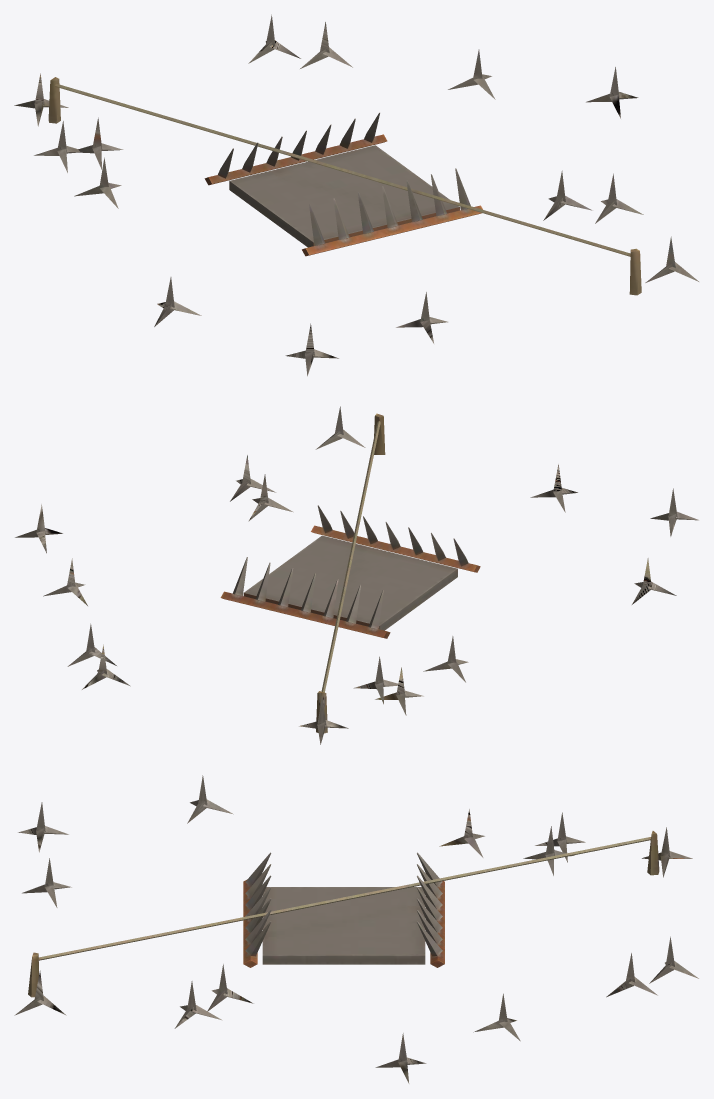
File: trap-town.low.glb
3 views of the same model, one above another, from view 1: azimuth 30°, elevation 25°; view 2: azimuth 150°, elevation 25°; view 3: azimuth 270°, elevation 25° (orthographic). The views are drawn at different scales.
Visible parts, largest first — view 1: trap-town:static, trap-town:bar-b-mesh, trap-town:bar-a-mesh; view 2: trap-town:static, trap-town:bar-a-mesh, trap-town:bar-b-mesh; view 3: trap-town:static, trap-town:bar-a-mesh, trap-town:bar-b-mesh.
Part boxes in pixels (<box>): trap-town:static: <box>14,14,698,376</box>; trap-town:bar-b-mesh: <box>302,168,482,256</box>; trap-town:bar-a-mesh: <box>204,112,387,185</box>; trap-town:static: <box>15,406,698,744</box>; trap-town:bar-a-mesh: <box>220,557,390,638</box>; trap-town:bar-b-mesh: <box>311,505,480,572</box>; trap-town:static: <box>14,775,698,1083</box>; trap-town:bar-a-mesh: <box>417,852,444,967</box>; trap-town:bar-b-mesh: <box>243,852,271,967</box>.
Size of the model in its own units: 1.64 by 0.1274 by 1.69.
1 material, 1 textured.
